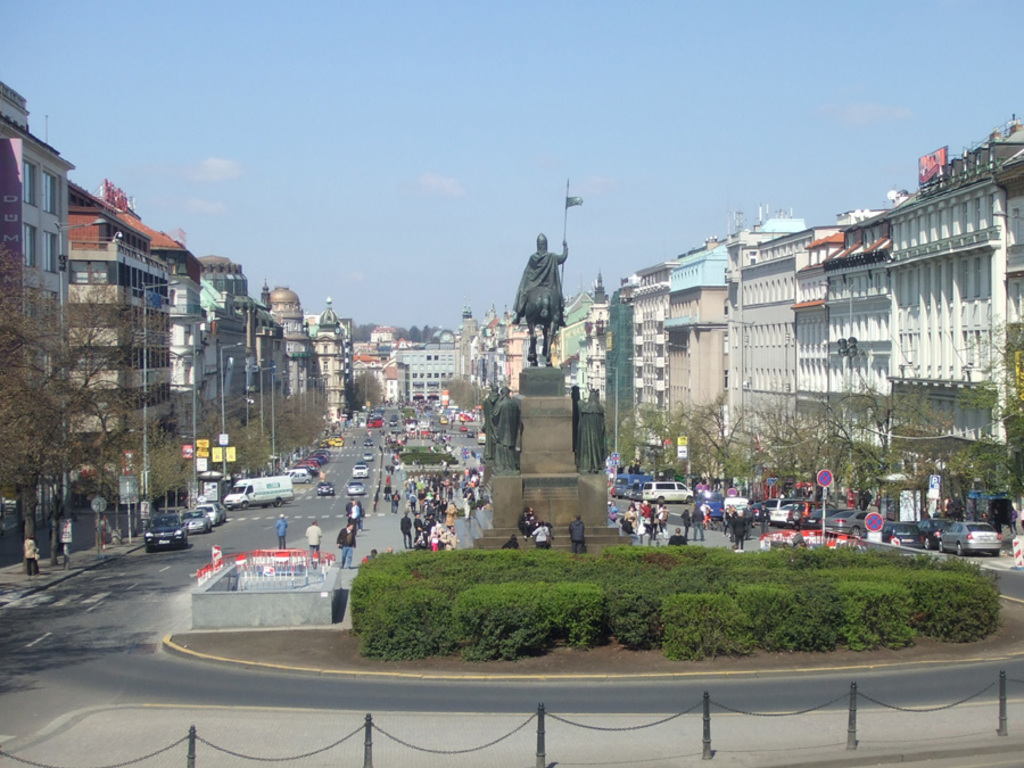Tree: (737, 315, 1022, 533), (0, 241, 170, 576), (604, 385, 747, 496), (92, 416, 194, 540), (238, 385, 329, 466), (197, 406, 269, 496), (439, 375, 488, 416), (351, 370, 383, 408), (394, 324, 439, 343), (352, 318, 380, 343)
